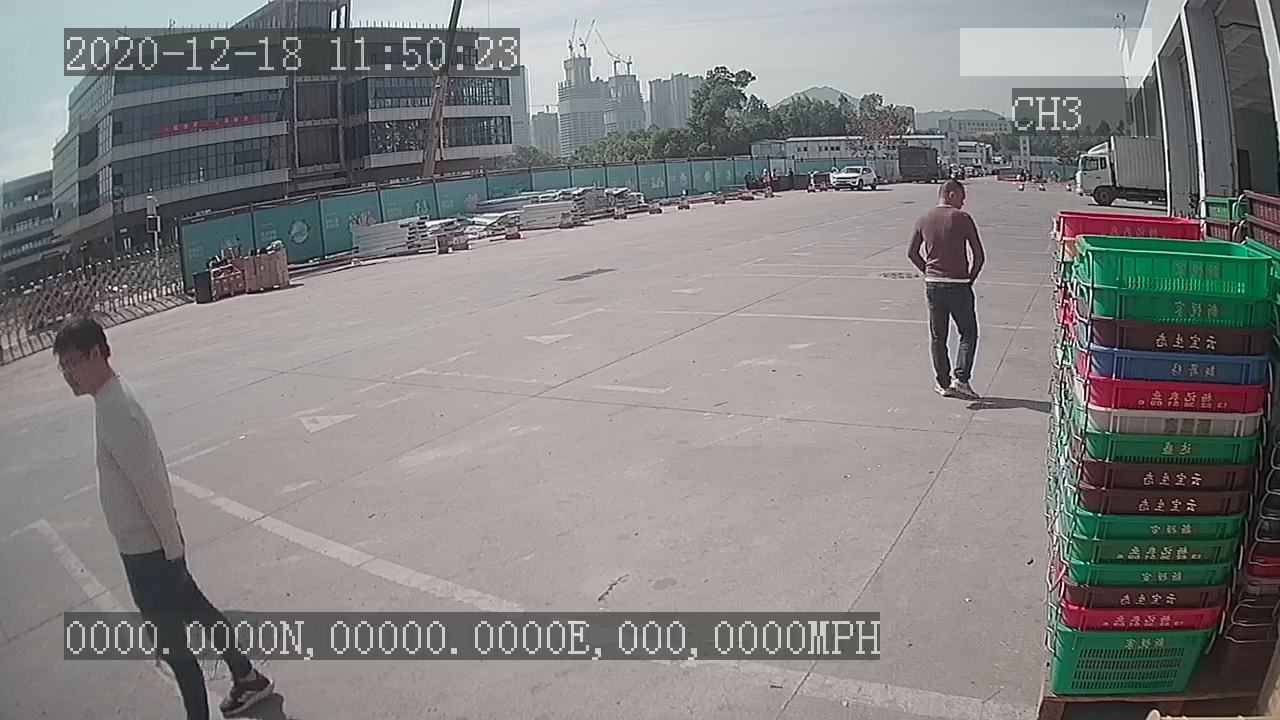person: (901, 174, 990, 408)
